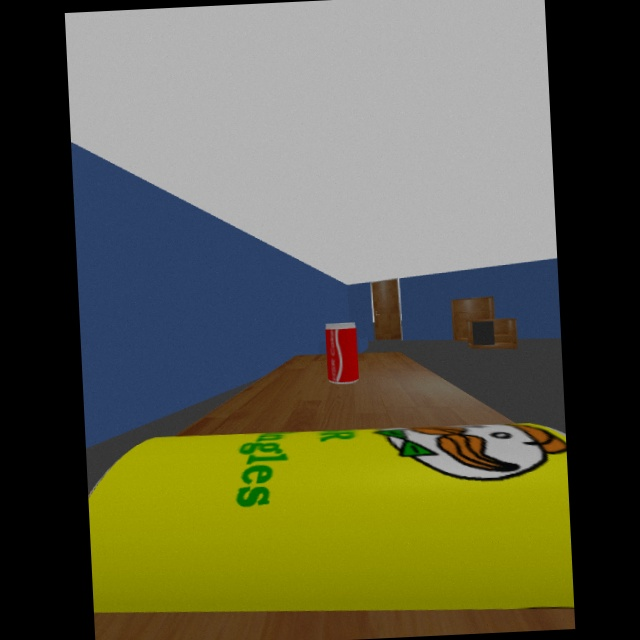chipsdose_gelb: (88, 424, 575, 613)
